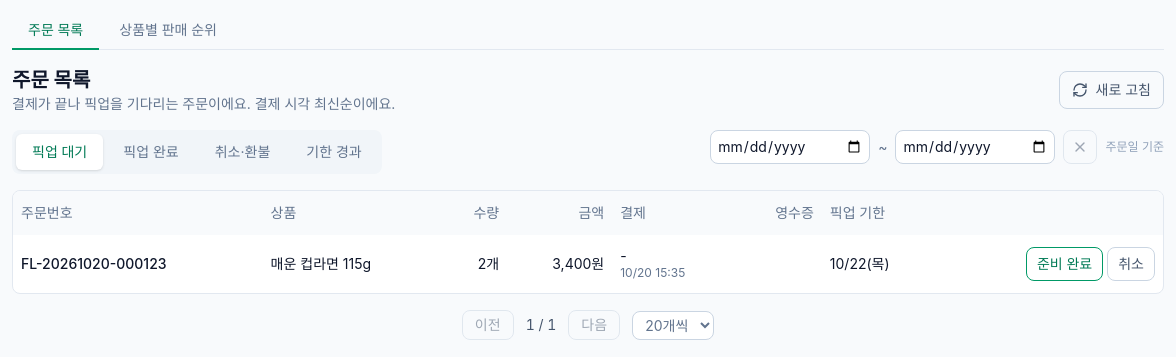
점주 주문 목록 (S-50·A5·A6) › 상품별 판매 순위 탭으로 바꾸면 주문 대신 판매 순위를 부른다 (변동 이력에서 옮김)
Expected: the text "FL-20261020-000123" is shown, [13,235,263,293]
Click the tab "상품별 판매 순위": (168, 31) [103,12,233,50]
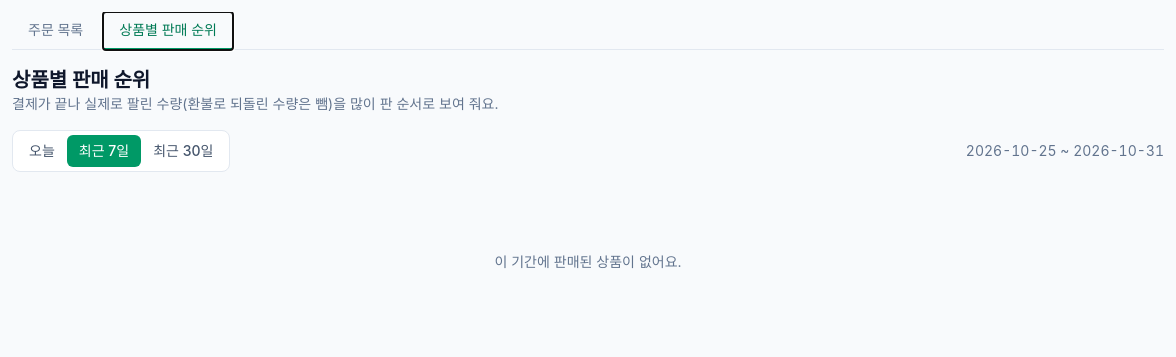
Now the text "이 기간에 판매된 상품이 없어요." is shown, box [494,253,682,270]
Now the heading "상품별 판매 순위" is shown, box [12,68,150,92]
Now the text "FL-20261020-000123" is gone
